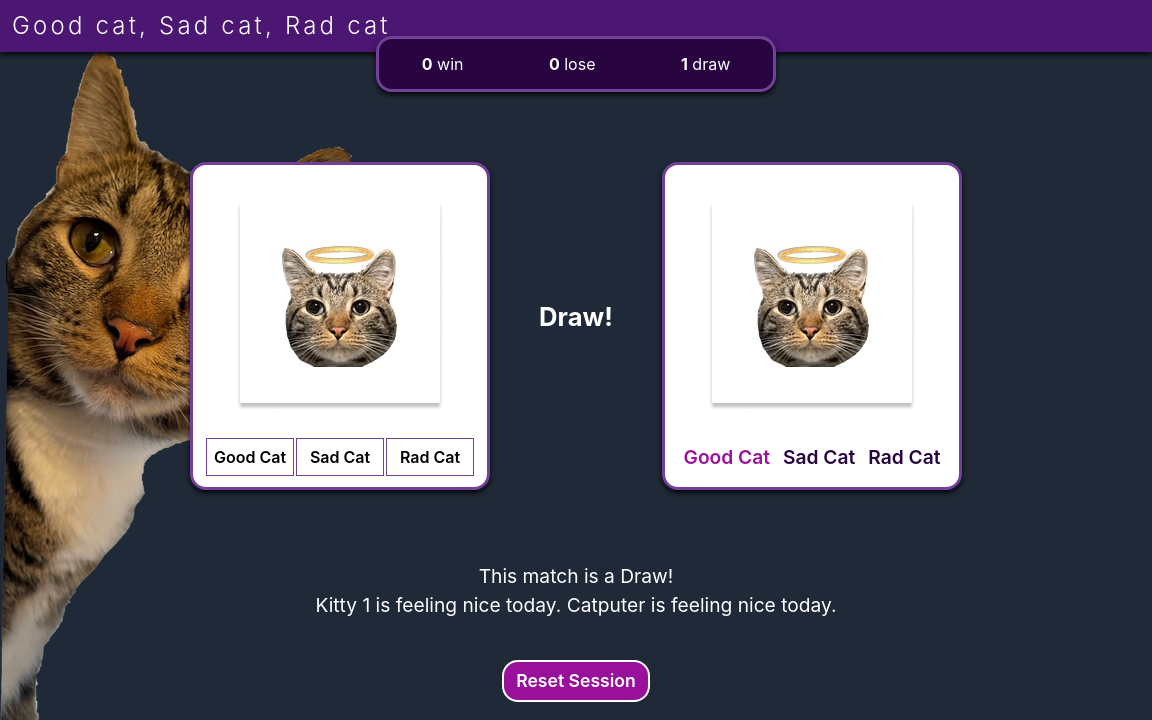
it: Testing Good cat, Sad cat, Rad cat Game › Test Sad cat action button
This screenshot has width=1152, height=720.
Click the button with test id "sad" at (340, 457), box [296,438,384,476]
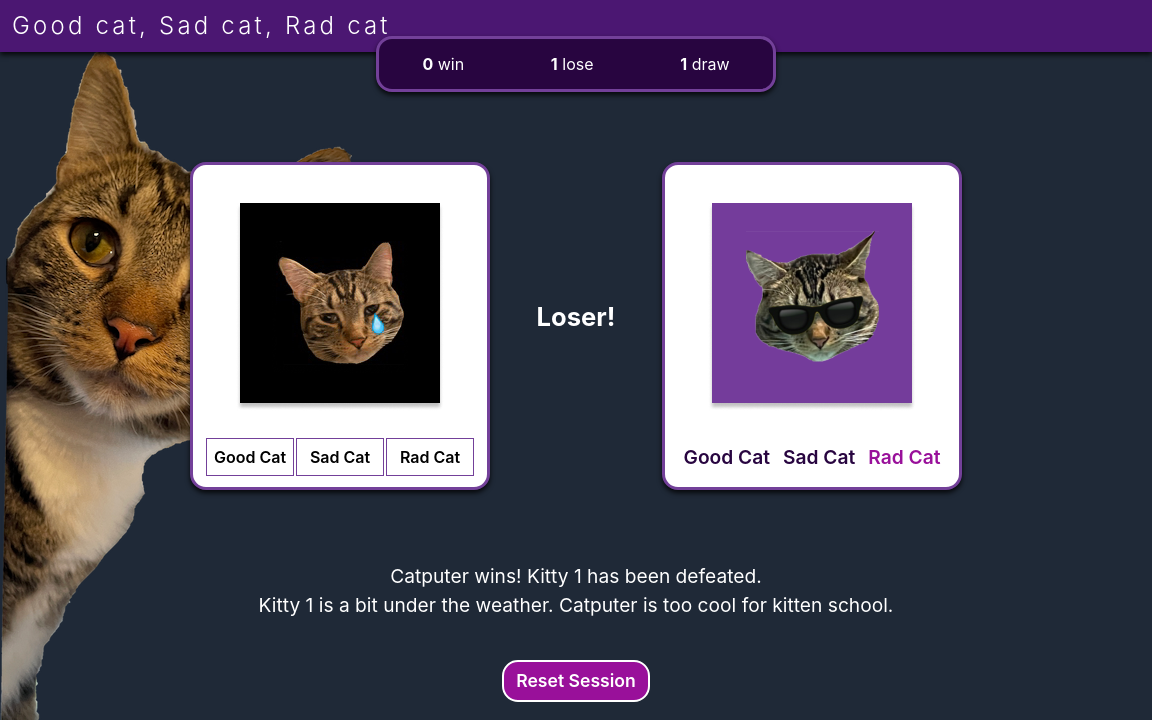
Expected: the picture with test id "p1-sad-img" is shown, [236,203,444,411]
Result: the text "Kitty 1 is a bit under the weather" is shown at [226,591,926,620]
